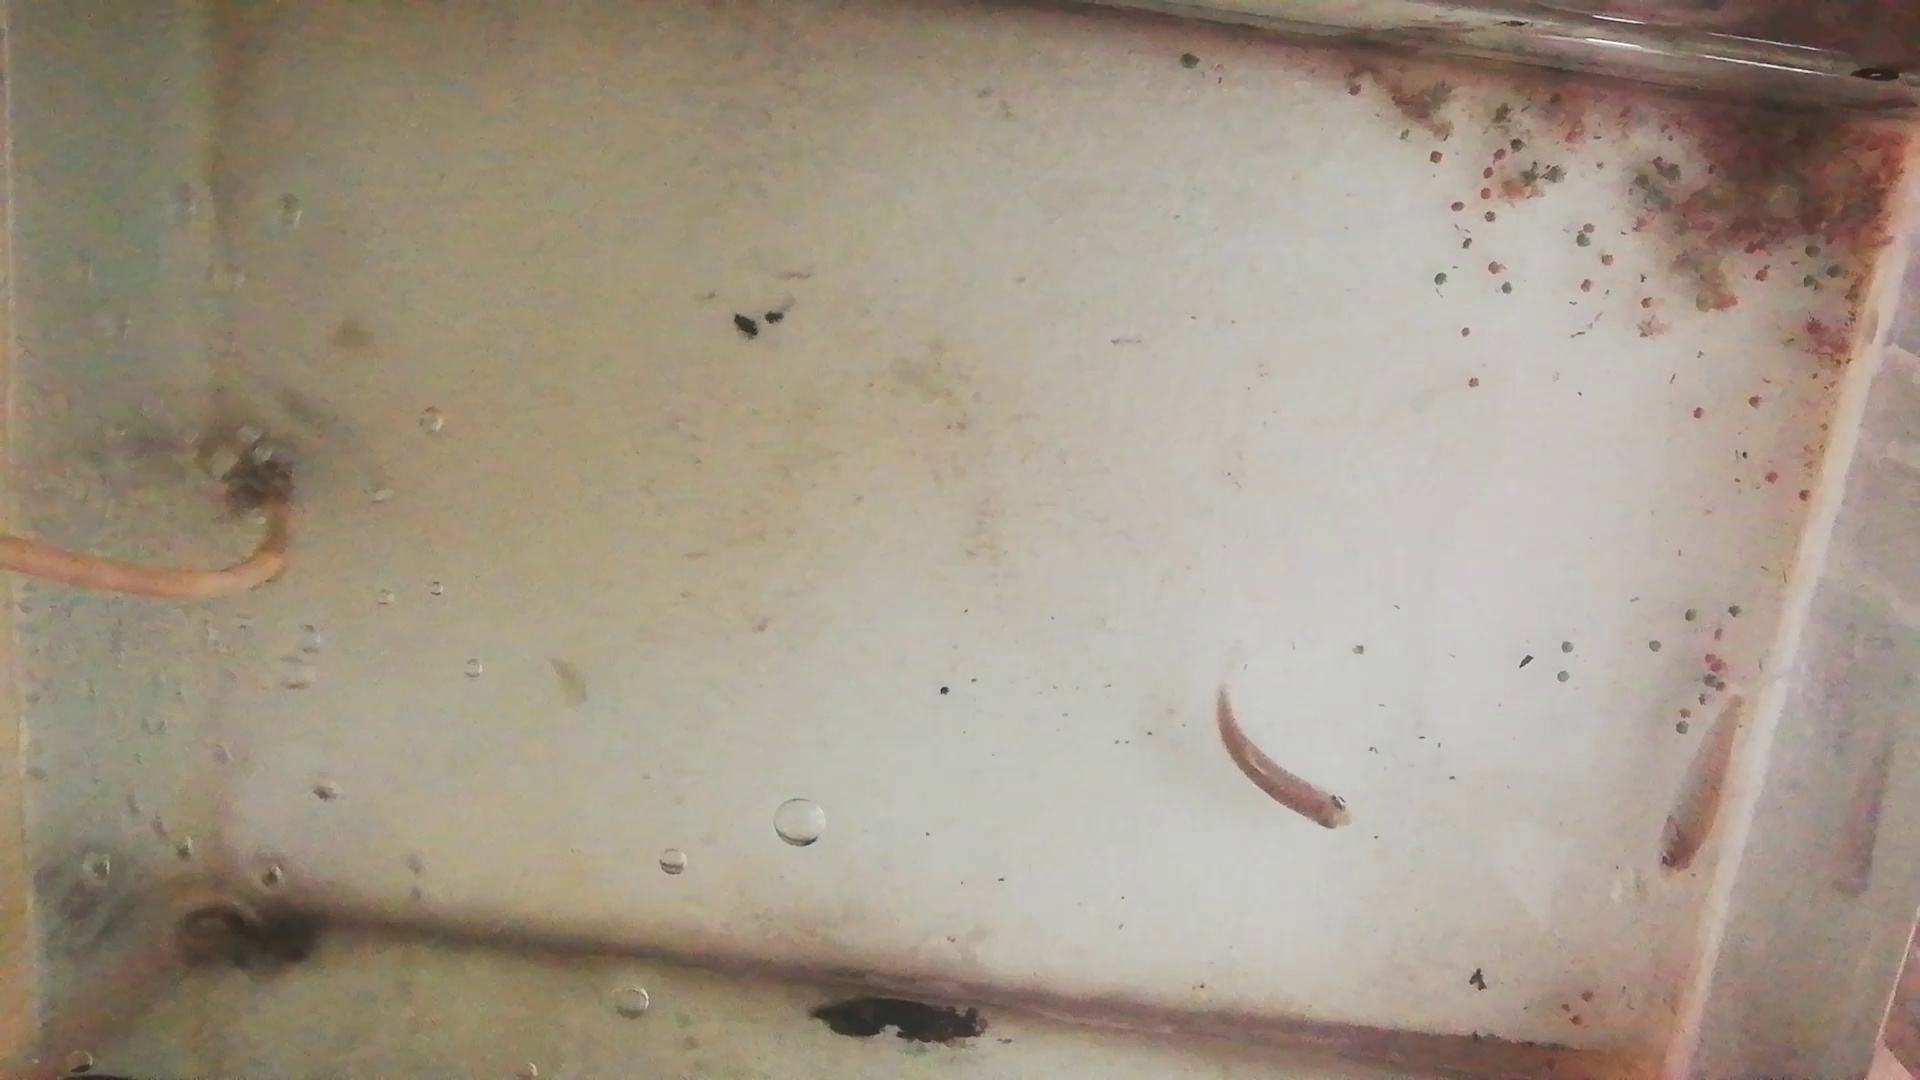fish: (1211, 688, 1354, 835), (1654, 696, 1745, 878)
